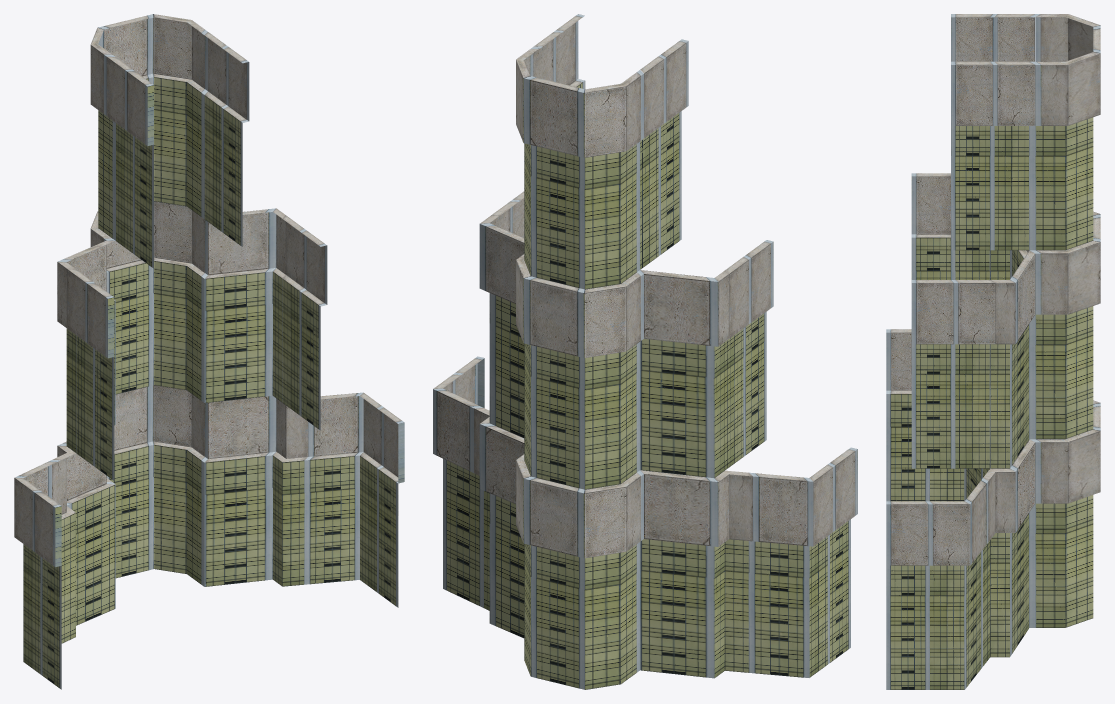
The model's file is SM_SYD_LSFacade.fbx.
3 views of the same model, side by side, from view 1: azimuth 30°, elevation 25°; view 2: azimuth 150°, elevation 25°; view 3: azimuth 270°, elevation 25° (orthographic). The views are drawn at different scales.
Visible parts, largest first — view 1: SM_SYD_LSFacade; view 2: SM_SYD_LSFacade; view 3: SM_SYD_LSFacade.
Part boxes in pixels (bbox=[...]): SM_SYD_LSFacade: bbox=[14, 14, 404, 689]; SM_SYD_LSFacade: bbox=[433, 14, 857, 689]; SM_SYD_LSFacade: bbox=[886, 14, 1100, 689].
Size of the model in its own units: 11934 by 18013 by 6186.
